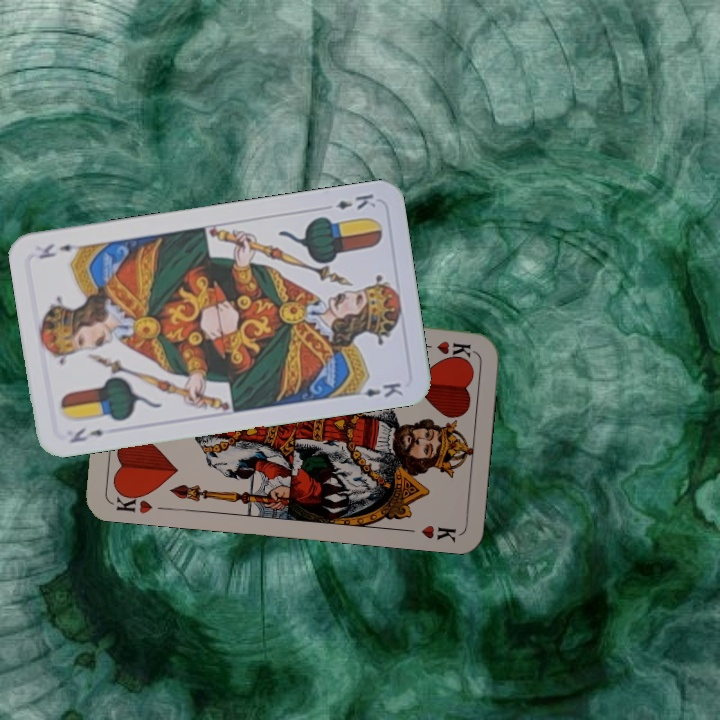EK: (332, 189, 379, 212), (66, 424, 106, 446)
HK: (415, 337, 474, 360), (112, 486, 155, 516)
